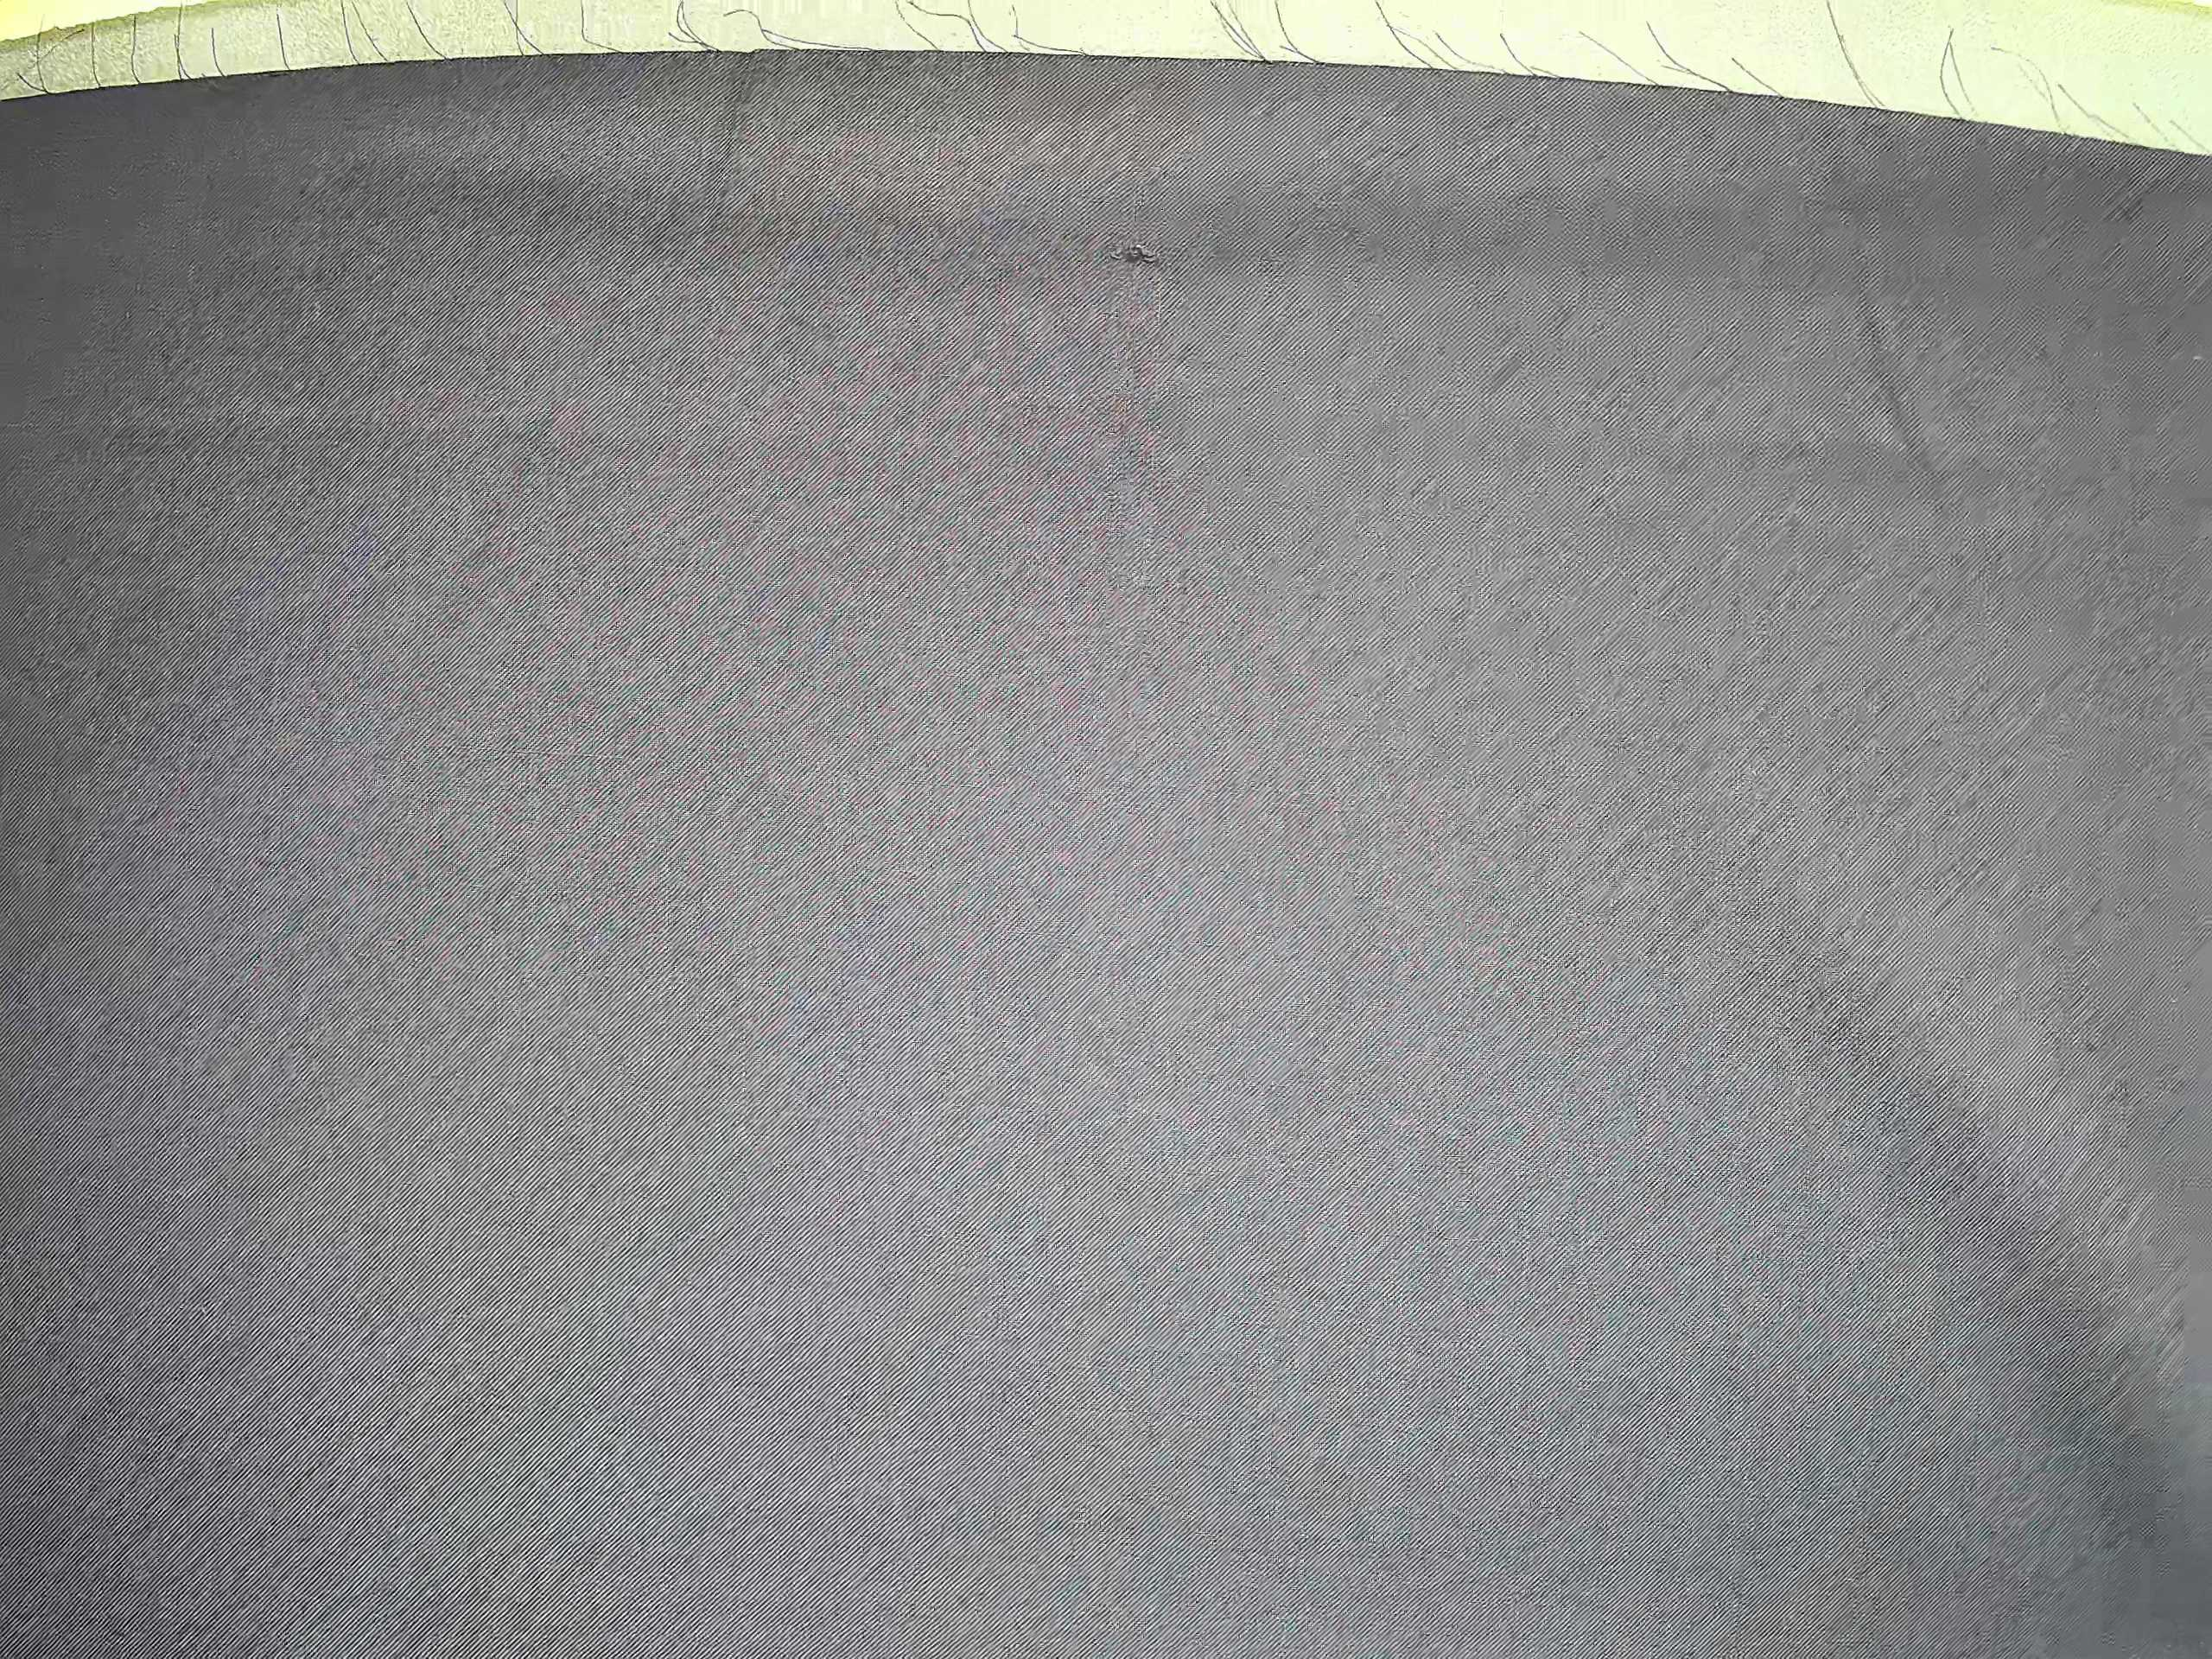hanging-warp: (1096, 167, 1184, 559)
